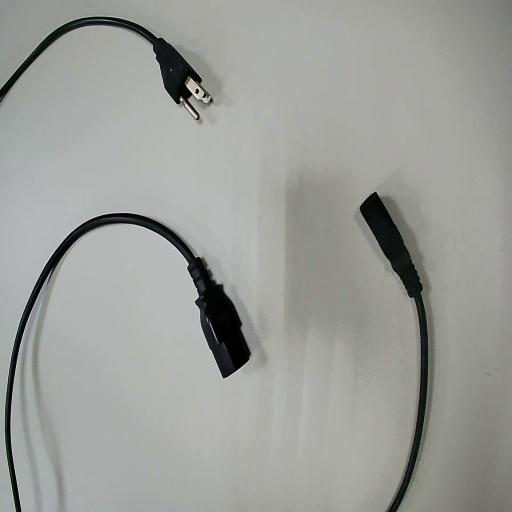wire: (6, 214, 249, 511), (360, 193, 427, 511), (0, 18, 200, 103)
